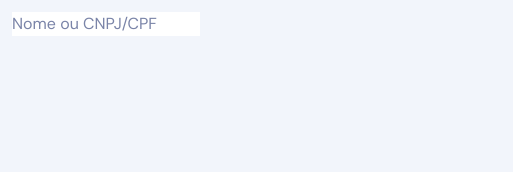
Test: pickers › PersonPicker não oferece cadastro para CNPJ com dígito verificador errado
Type "11222333000182" into the dropdown named "Pessoa" at (106, 24), box [12,12,200,36]
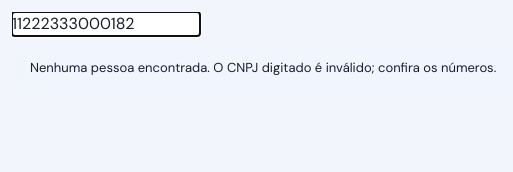
Expected: the text "Nenhuma pessoa encontrada. O CNPJ digitado é inválido; confira os números." is shown, [30,59,496,76]
